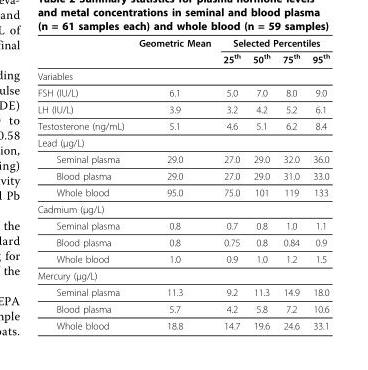table: (36, 36, 329, 330)
table column: (36, 36, 130, 330), (130, 36, 216, 330), (216, 36, 246, 330), (275, 36, 305, 330), (246, 36, 275, 330), (305, 36, 329, 330)
table column header: (36, 36, 329, 67)
table projected row header: (36, 67, 329, 84), (36, 200, 329, 217), (36, 134, 329, 150), (36, 267, 329, 283)
table row: (36, 50, 329, 67), (36, 67, 329, 84), (36, 100, 329, 117), (36, 117, 329, 134), (36, 150, 329, 167), (36, 183, 329, 200), (36, 200, 329, 217), (36, 233, 329, 250), (36, 250, 329, 267), (36, 283, 329, 300), (36, 84, 329, 100), (36, 134, 329, 150), (36, 167, 329, 183), (36, 217, 329, 233), (36, 267, 329, 283), (36, 300, 329, 316), (36, 36, 329, 50), (36, 316, 329, 330)
table spanning cell: (130, 36, 216, 67), (216, 36, 329, 50)
